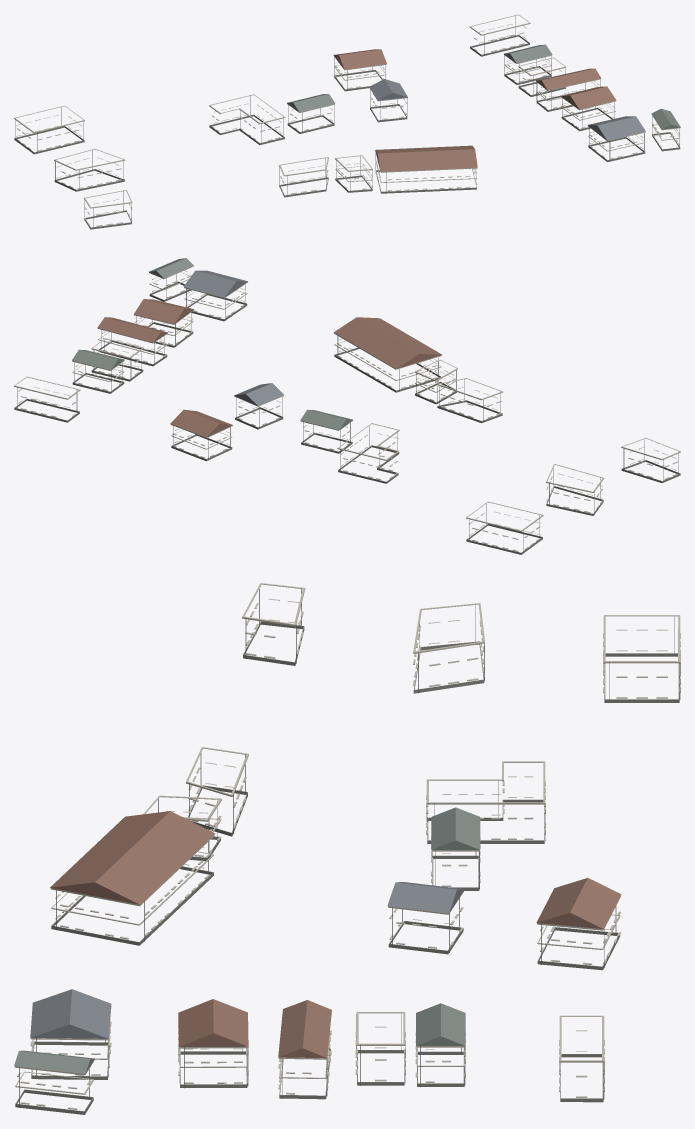
File: district_-2_-3.glb
The picture shows the model from 3 angles, top to bottom: view 1: azimuth 30°, elevation 25°; view 2: azimuth 150°, elevation 25°; view 3: azimuth 270°, elevation 25°; orthographic projection. The views are drawn at different scales.
Visible parts, largest first — view 1: MasonryTrim, RoofMetal, MetalDetails; view 2: MasonryTrim, RoofMetal, MetalDetails; view 3: RoofMetal, MasonryTrim, MetalDetails.
Part boxes in pixels (left/top/right/bottom): MasonryTrim: left=14, top=14, right=680, bottom=229; RoofMetal: left=287, top=44, right=680, bottom=171; MetalDetails: left=15, top=16, right=679, bottom=228; MasonryTrim: left=14, top=266, right=680, bottom=554; RoofMetal: left=72, top=258, right=442, bottom=437; MetalDetails: left=17, top=274, right=678, bottom=553; RoofMetal: left=14, top=807, right=621, bottom=1073; MasonryTrim: left=14, top=583, right=680, bottom=1114; MetalDetails: left=19, top=585, right=680, bottom=1107.
Size of the model in its own units: 191 by 10.1 by 110.
